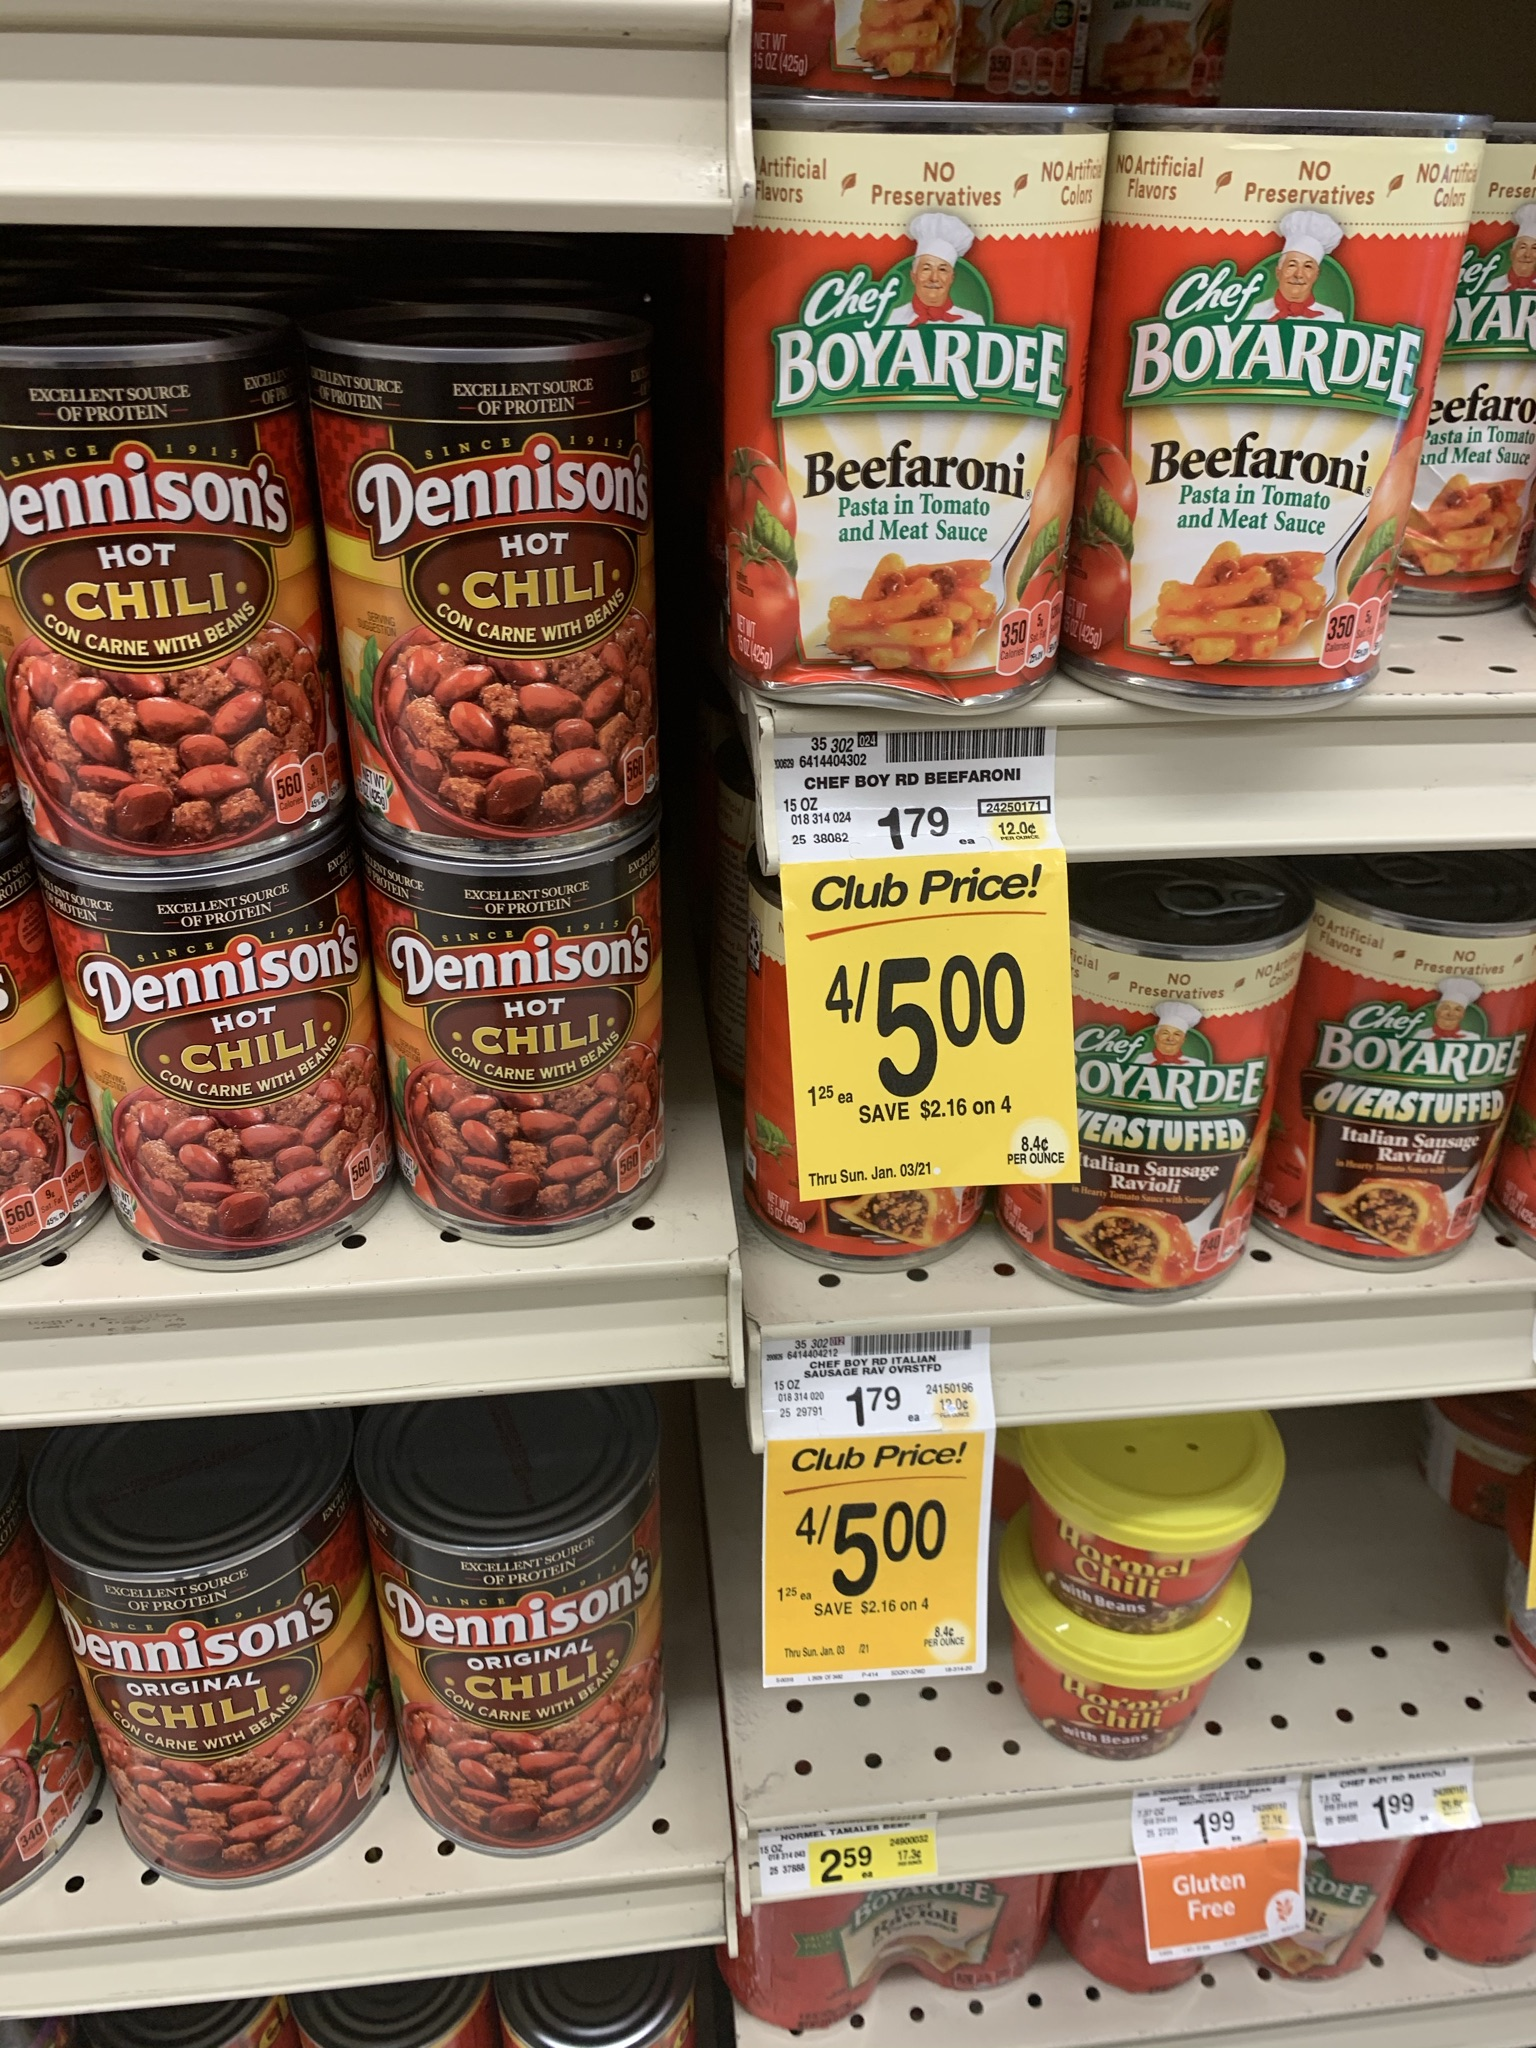can: (763, 113, 1065, 687), (1128, 127, 1379, 697), (357, 340, 644, 827), (23, 352, 281, 827), (102, 877, 353, 1232), (407, 868, 660, 1205), (94, 1561, 369, 1817), (1084, 940, 1300, 1264), (405, 1535, 658, 1800), (1326, 905, 1475, 1253)
